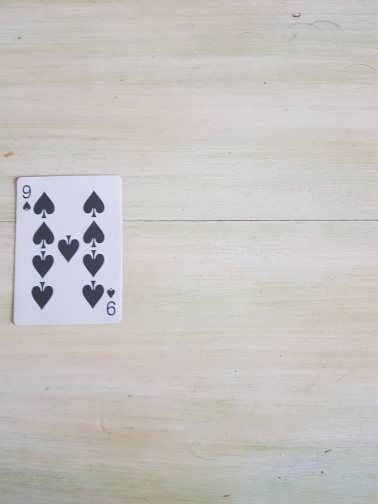nine: (12, 175, 125, 327)
